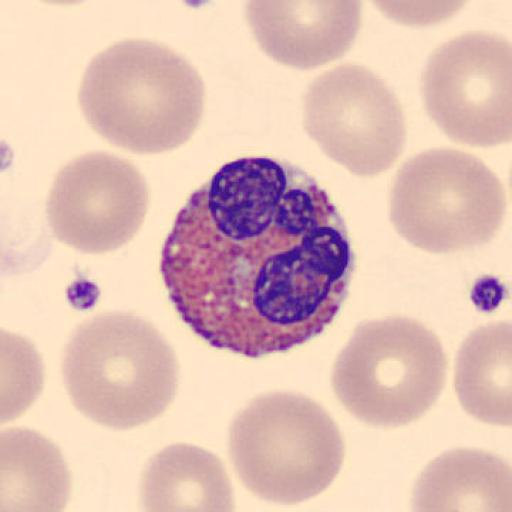RBC: (75, 37, 207, 158), (58, 307, 181, 433), (225, 386, 347, 508), (328, 312, 450, 431), (386, 146, 507, 256), (300, 61, 408, 179), (418, 27, 512, 149), (45, 149, 151, 256), (243, 0, 364, 72), (136, 440, 237, 512), (408, 444, 512, 512), (451, 318, 512, 428), (1, 154, 54, 279), (1, 424, 72, 512), (2, 327, 46, 425), (364, 0, 474, 30)
WBC: (160, 156, 356, 357)
